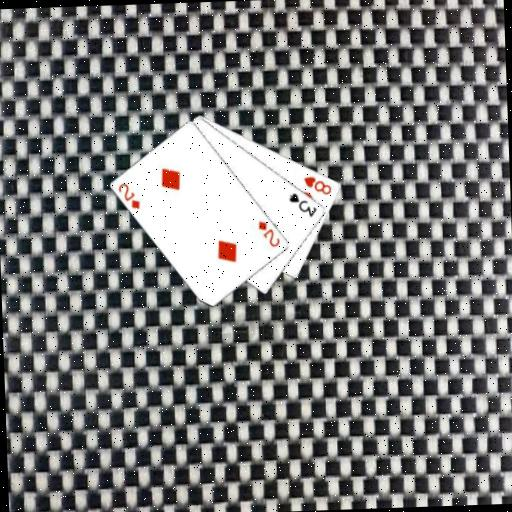2D: (255, 217, 282, 249), (115, 179, 142, 211)
3S: (285, 189, 318, 219)
8H: (300, 172, 333, 197)
